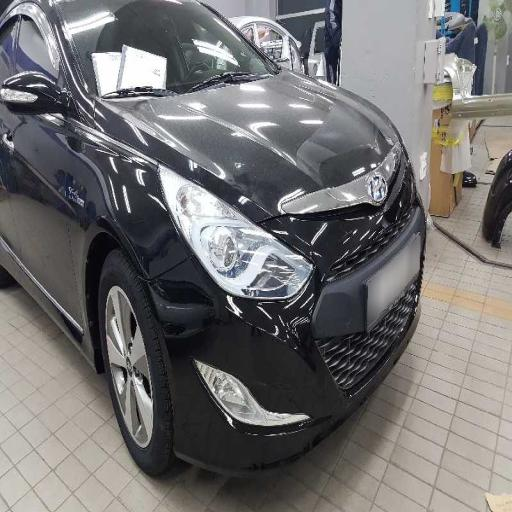dent: (125, 230, 228, 380)
